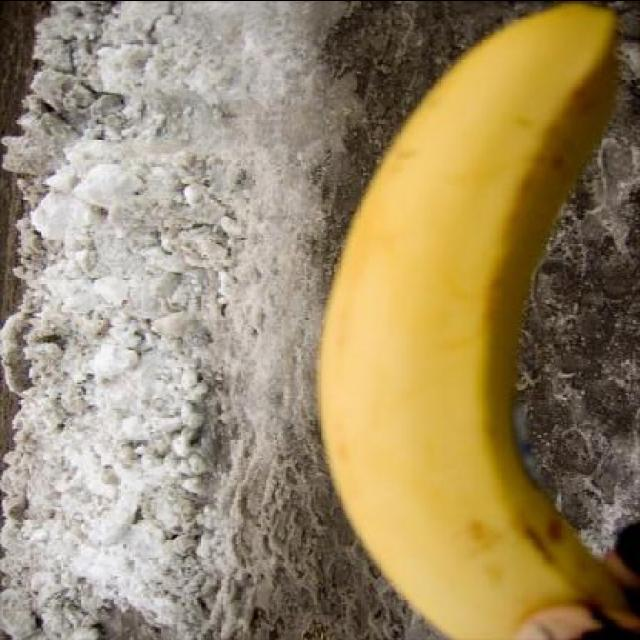Banana: (303, 8, 630, 640)
